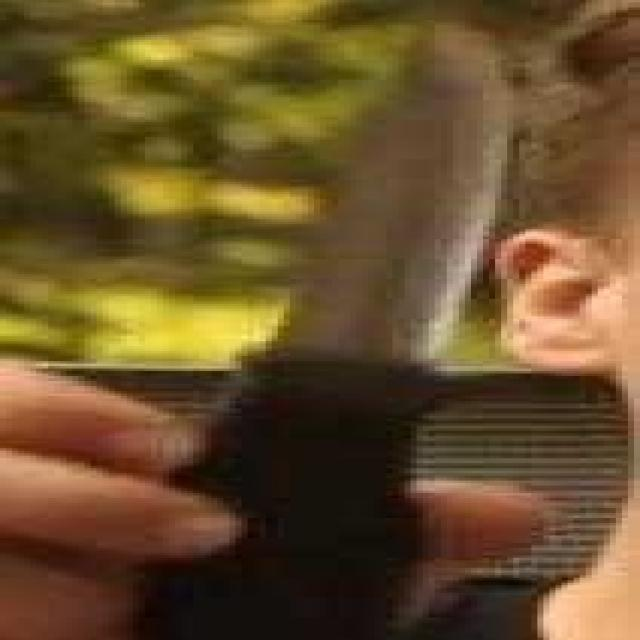Knife: (119, 0, 546, 640)
